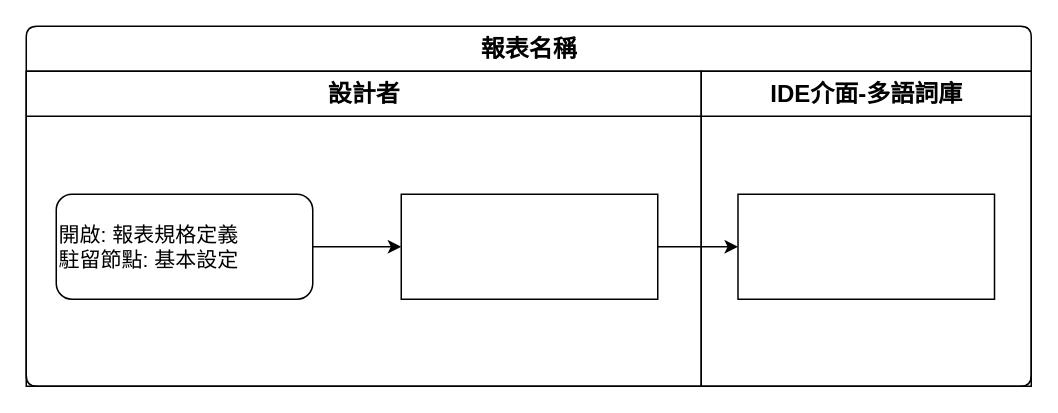
Some shapes in this 1058 by 413 pixel diagram are drawn without their labels. Here are the shapes that lost their labels. From the top down, the centre of each, then its label:
(x=529, y=246): 執行按鈕: 多語
(x=865, y=246): 開啟: 多語詞庫
